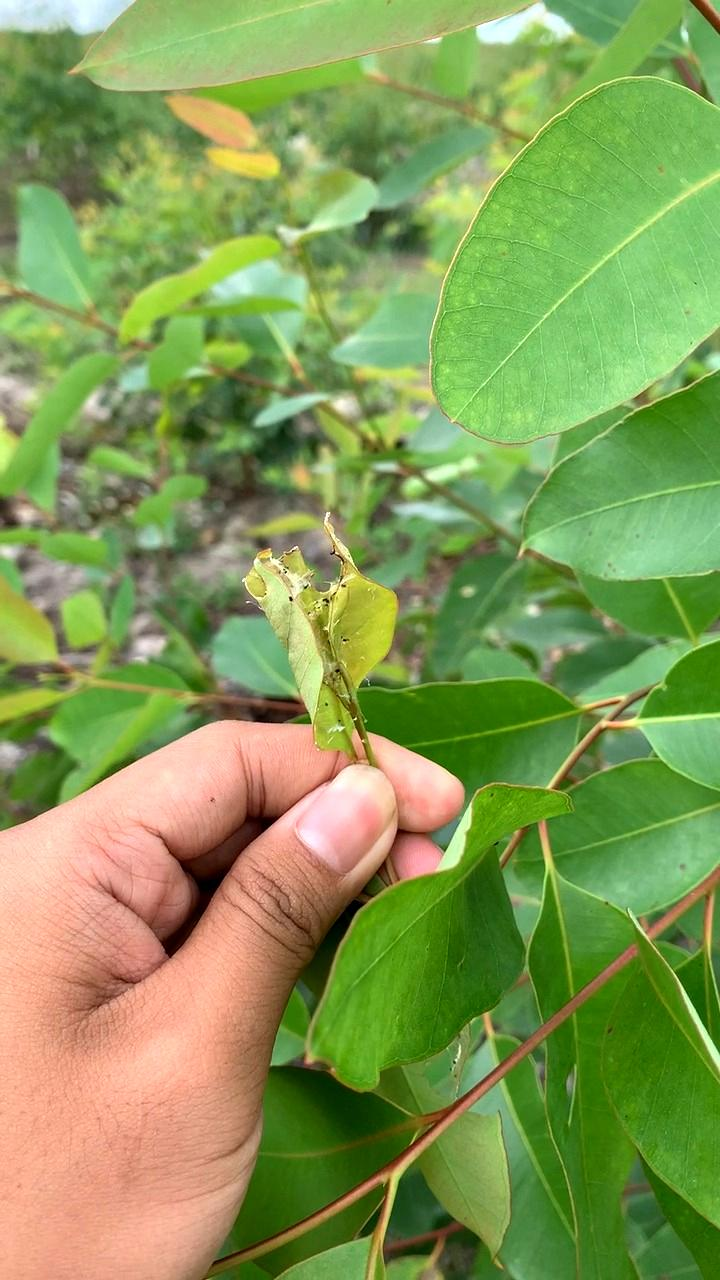Leaf Roller - Leaf: (223, 488, 413, 763)
